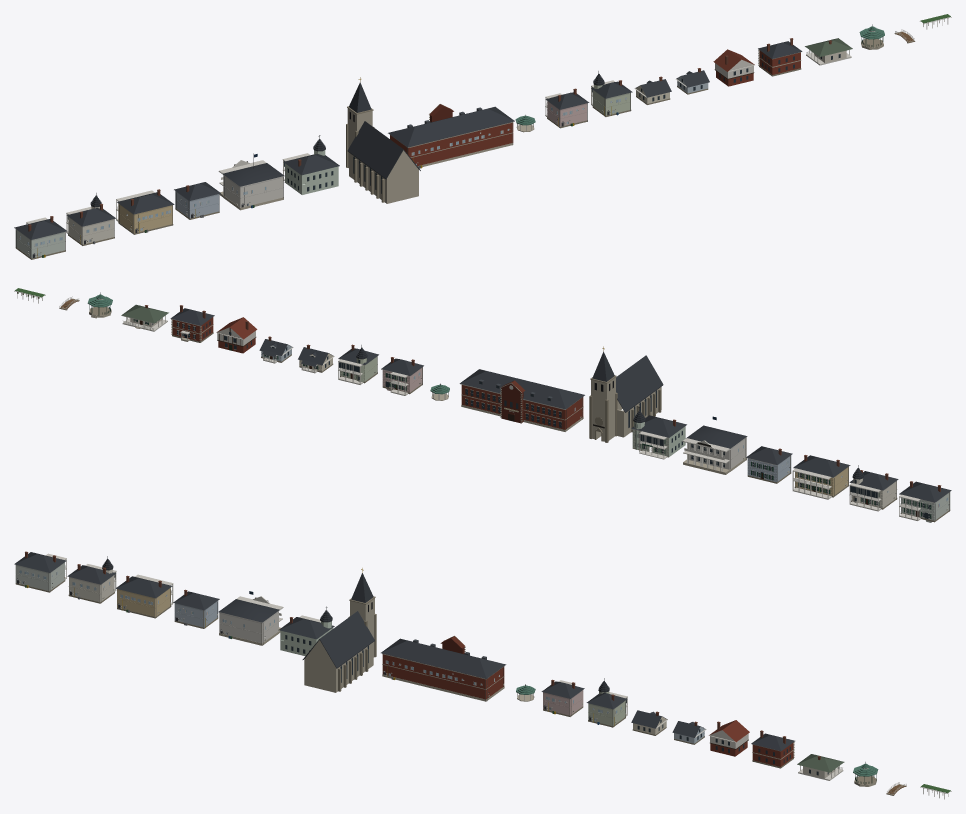
Rendered from kamome.glb.
3 views of the same model, one above another, from view 1: azimuth 30°, elevation 25°; view 2: azimuth 150°, elevation 25°; view 3: azimuth 330°, elevation 25° (orthographic).
Parts seen in each view (by area): view 1: kamome_school_body, kamome_church_body, kamome_ryoji_body, kamome_harrington_body, kamome_ijin_c_body, kamome_ijin_a_body, kamome_ijin_b_body, kamome_ijin_d_body, kamome_ijin_e_body, kamome_ijin_f_body, kamome_manse_body, kamome_timber_body (+3 smaller); view 2: kamome_school_body, kamome_church_body, kamome_ryoji_body, kamome_ijin_c_body, kamome_harrington_body, kamome_ijin_a_body, kamome_ijin_b_body, kamome_ijin_d_body, kamome_ijin_e_body, kamome_ijin_f_body, kamome_manse_body, kamome_timber_body (+3 smaller); view 3: kamome_school_body, kamome_church_body, kamome_ryoji_body, kamome_ijin_c_body, kamome_ijin_a_body, kamome_ijin_b_body, kamome_harrington_body, kamome_ijin_d_body, kamome_ijin_f_body, kamome_ijin_e_body, kamome_manse_body, kamome_timber_body (+3 smaller).
Part boxes in pixels (x1,y1,x2,y2): kamome_school_body: (387, 104, 514, 168); kamome_church_body: (346, 77, 420, 203); kamome_ryoji_body: (218, 153, 284, 210); kamome_harrington_body: (282, 135, 339, 194); kamome_ijin_c_body: (116, 189, 174, 234); kamome_ijin_a_body: (14, 216, 67, 259); kamome_ijin_b_body: (66, 193, 115, 245); kamome_ijin_d_body: (174, 182, 220, 219); kamome_ijin_e_body: (545, 88, 589, 128); kamome_ijin_f_body: (591, 71, 632, 116); kamome_manse_body: (758, 38, 802, 76); kamome_timber_body: (713, 49, 754, 86); kamome_school_body: (459, 369, 584, 431); kamome_church_body: (589, 346, 663, 442); kamome_ryoji_body: (682, 416, 747, 474); kamome_ijin_c_body: (792, 455, 850, 499); kamome_harrington_body: (631, 407, 686, 459); kamome_ijin_a_body: (899, 481, 951, 522); kamome_ijin_b_body: (849, 465, 898, 511); kamome_ijin_d_body: (746, 446, 792, 483); kamome_ijin_e_body: (381, 357, 423, 395); kamome_ijin_f_body: (338, 344, 378, 384); kamome_manse_body: (170, 305, 214, 342); kamome_timber_body: (216, 317, 257, 353); kamome_school_body: (381, 635, 506, 701); kamome_church_body: (302, 568, 376, 692); kamome_ryoji_body: (218, 591, 283, 645); kamome_ijin_c_body: (115, 574, 173, 618); kamome_ijin_a_body: (14, 551, 66, 592); kamome_ijin_b_body: (67, 556, 116, 603); kamome_harrington_body: (279, 606, 334, 656); kamome_ijin_d_body: (173, 589, 219, 628); kamome_ijin_f_body: (586, 678, 627, 727); kamome_ijin_e_body: (541, 679, 584, 716); kamome_manse_body: (751, 730, 795, 768); kamome_timber_body: (709, 720, 749, 756).
Bounding box in the file's own units: 409 × 39.6 × 39.5.
